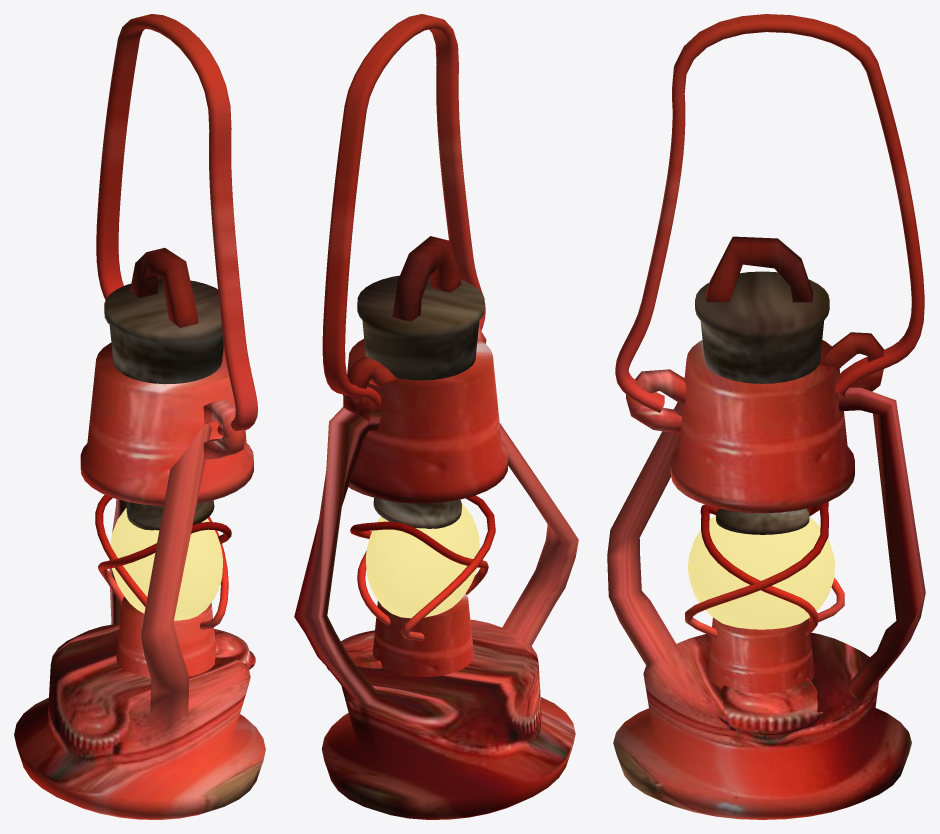
File: lanterne.glb
The picture shows the model from 3 angles, left to right: view 1: azimuth 30°, elevation 25°; view 2: azimuth 150°, elevation 25°; view 3: azimuth 270°, elevation 25°; orthographic projection. The views are drawn at different scales.
Visible parts, largest first — view 1: lanterne; view 2: lanterne; view 3: lanterne.
Boxes of the visible parts, x1,y1,x2,y2 form: lanterne: (14, 14, 265, 819); lanterne: (294, 14, 578, 819); lanterne: (607, 14, 925, 819).
Bounding box in the file's own units: 1.25 × 4.05 × 1.5.
Materials: 2 (1 with a texture image).
